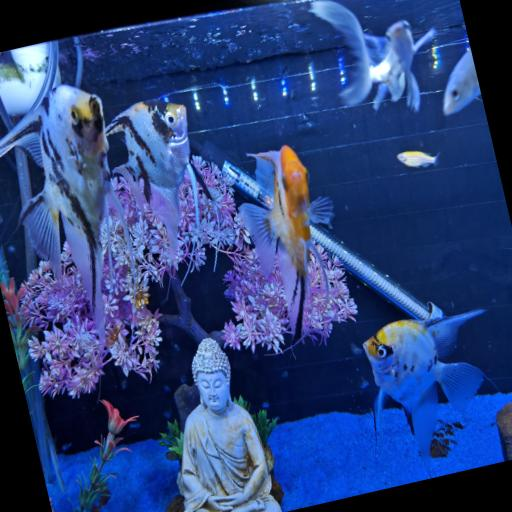Fish: (0, 85, 135, 346), (363, 310, 484, 477), (238, 146, 333, 338), (106, 101, 198, 262), (308, 0, 434, 112), (442, 50, 480, 115), (396, 152, 439, 167)
